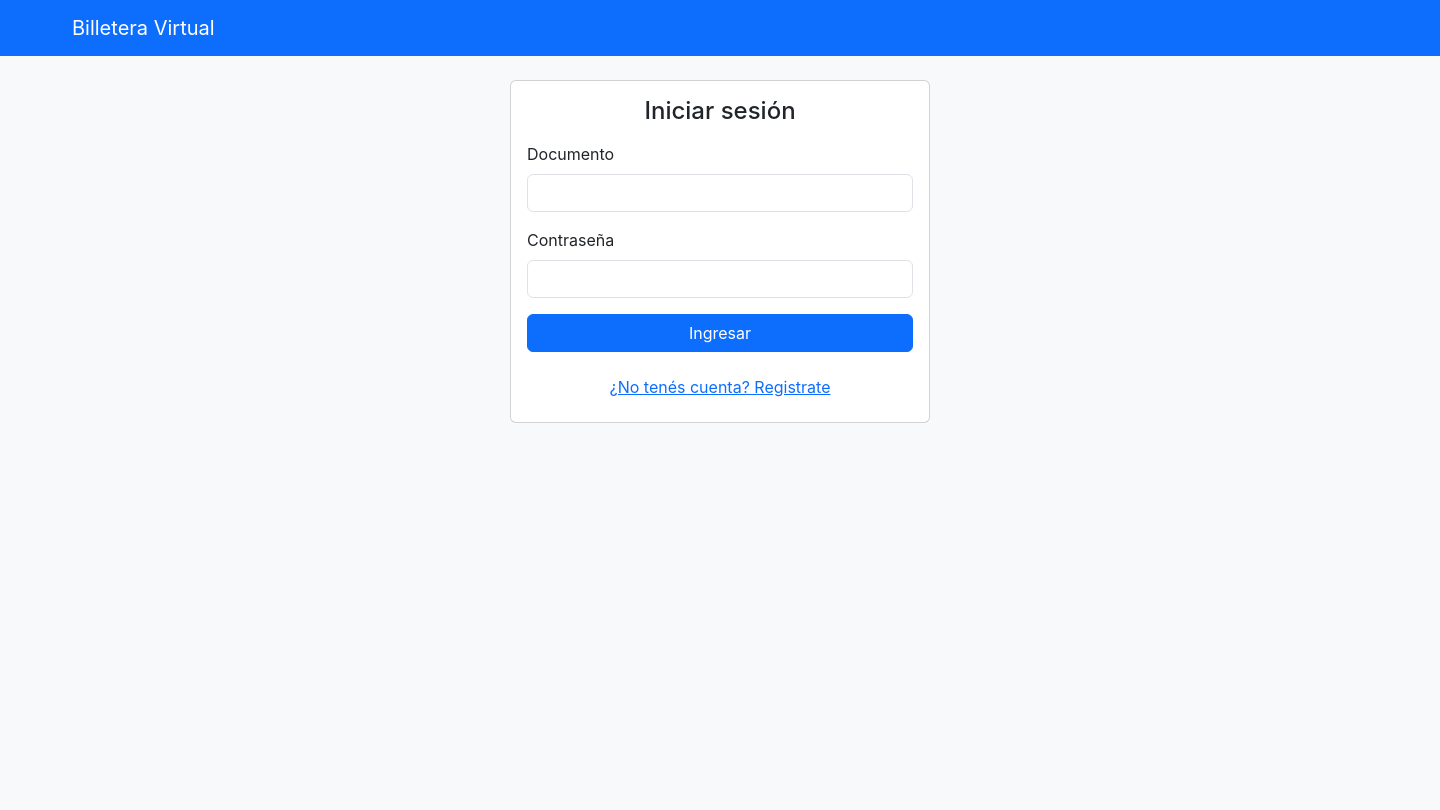
Test: el link de login lleva al registro
Click the button "¿No tenés cuenta? Registrate" at coordinates (720, 387), box [596,368,844,406]
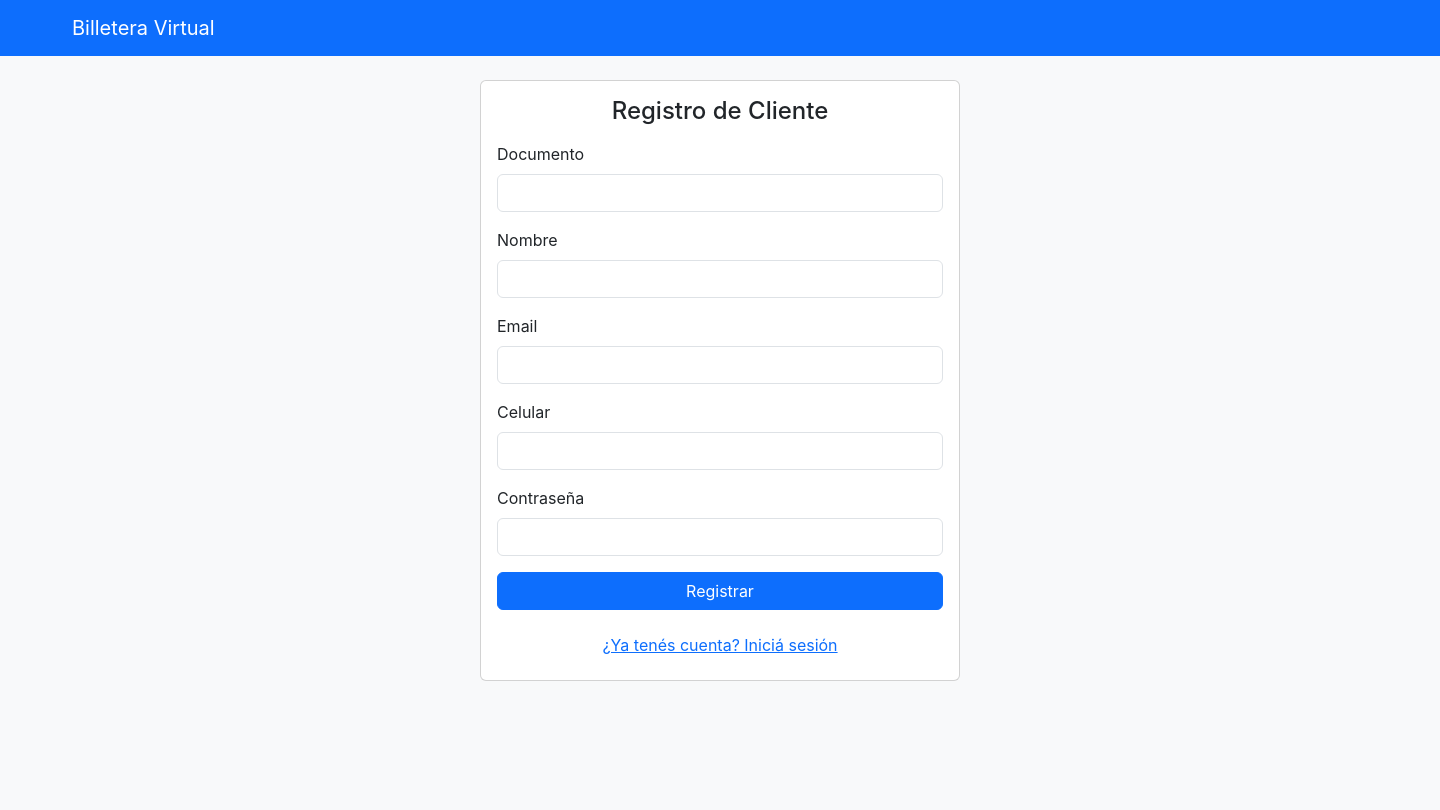
Expected: the heading "Registro de Cliente" is shown, [612,96,828,125]
